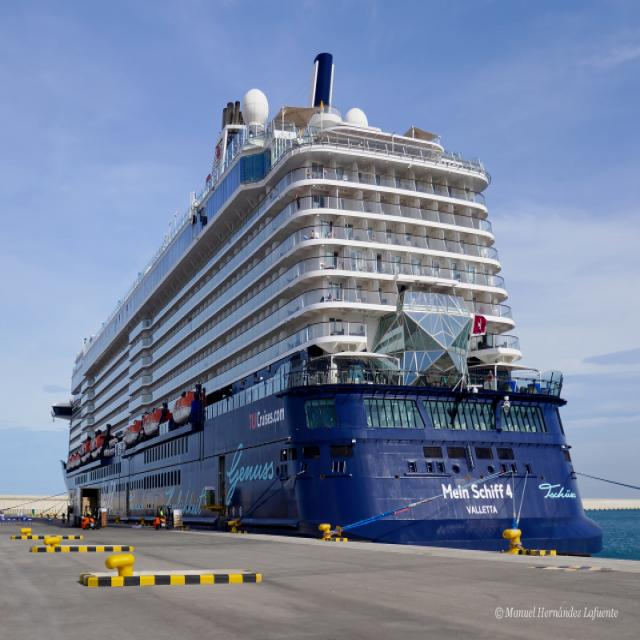cruises: (51, 50, 607, 561)
